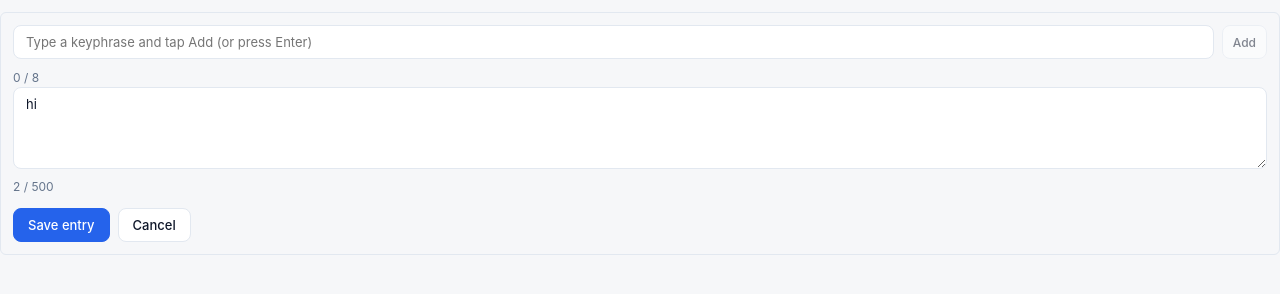
Test case: JournalEntryForm keyphrase error feedback (H4) › rejects a keyphrase with a comma and shows the inline error
In the field with test id "keyphrase-input": (613, 42) [13, 25, 1214, 59], type "dragon wings, forked tongue"
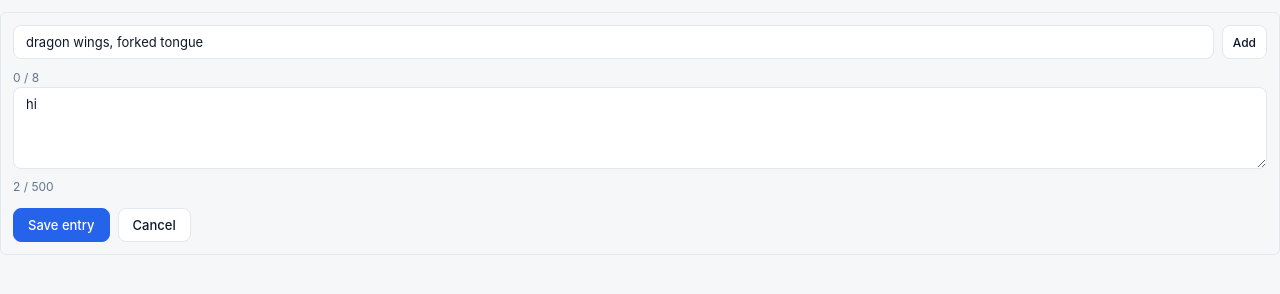
Click the button with test id "keyphrase-add": (1244, 42) [1222, 25, 1267, 59]
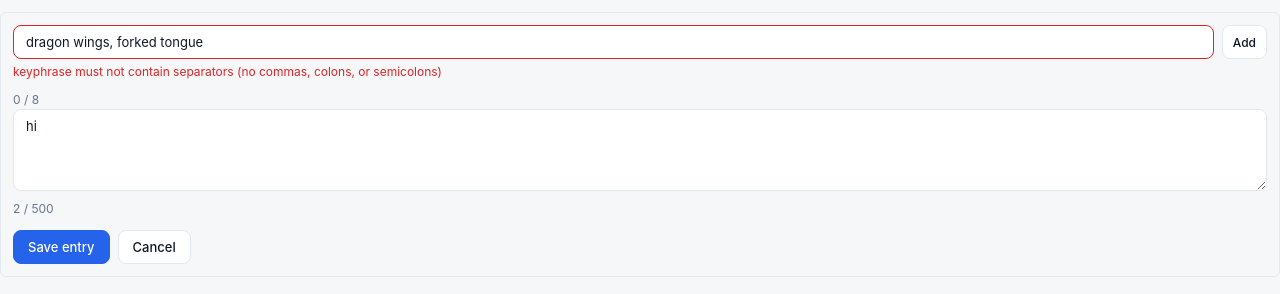
Now the message with test id "keyphrase-error" shows "separators", box [13, 64, 442, 79]
